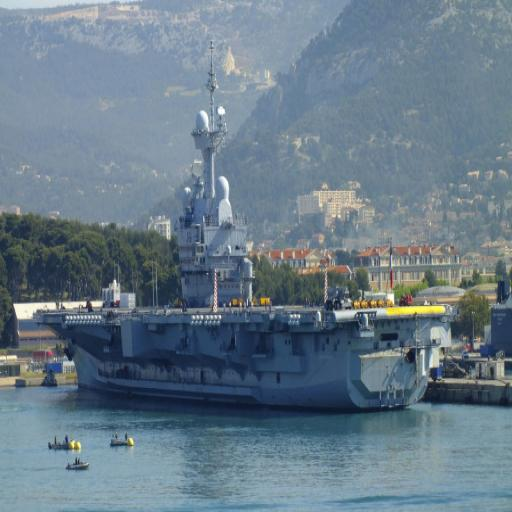Portanaves: (34, 32, 452, 416)
